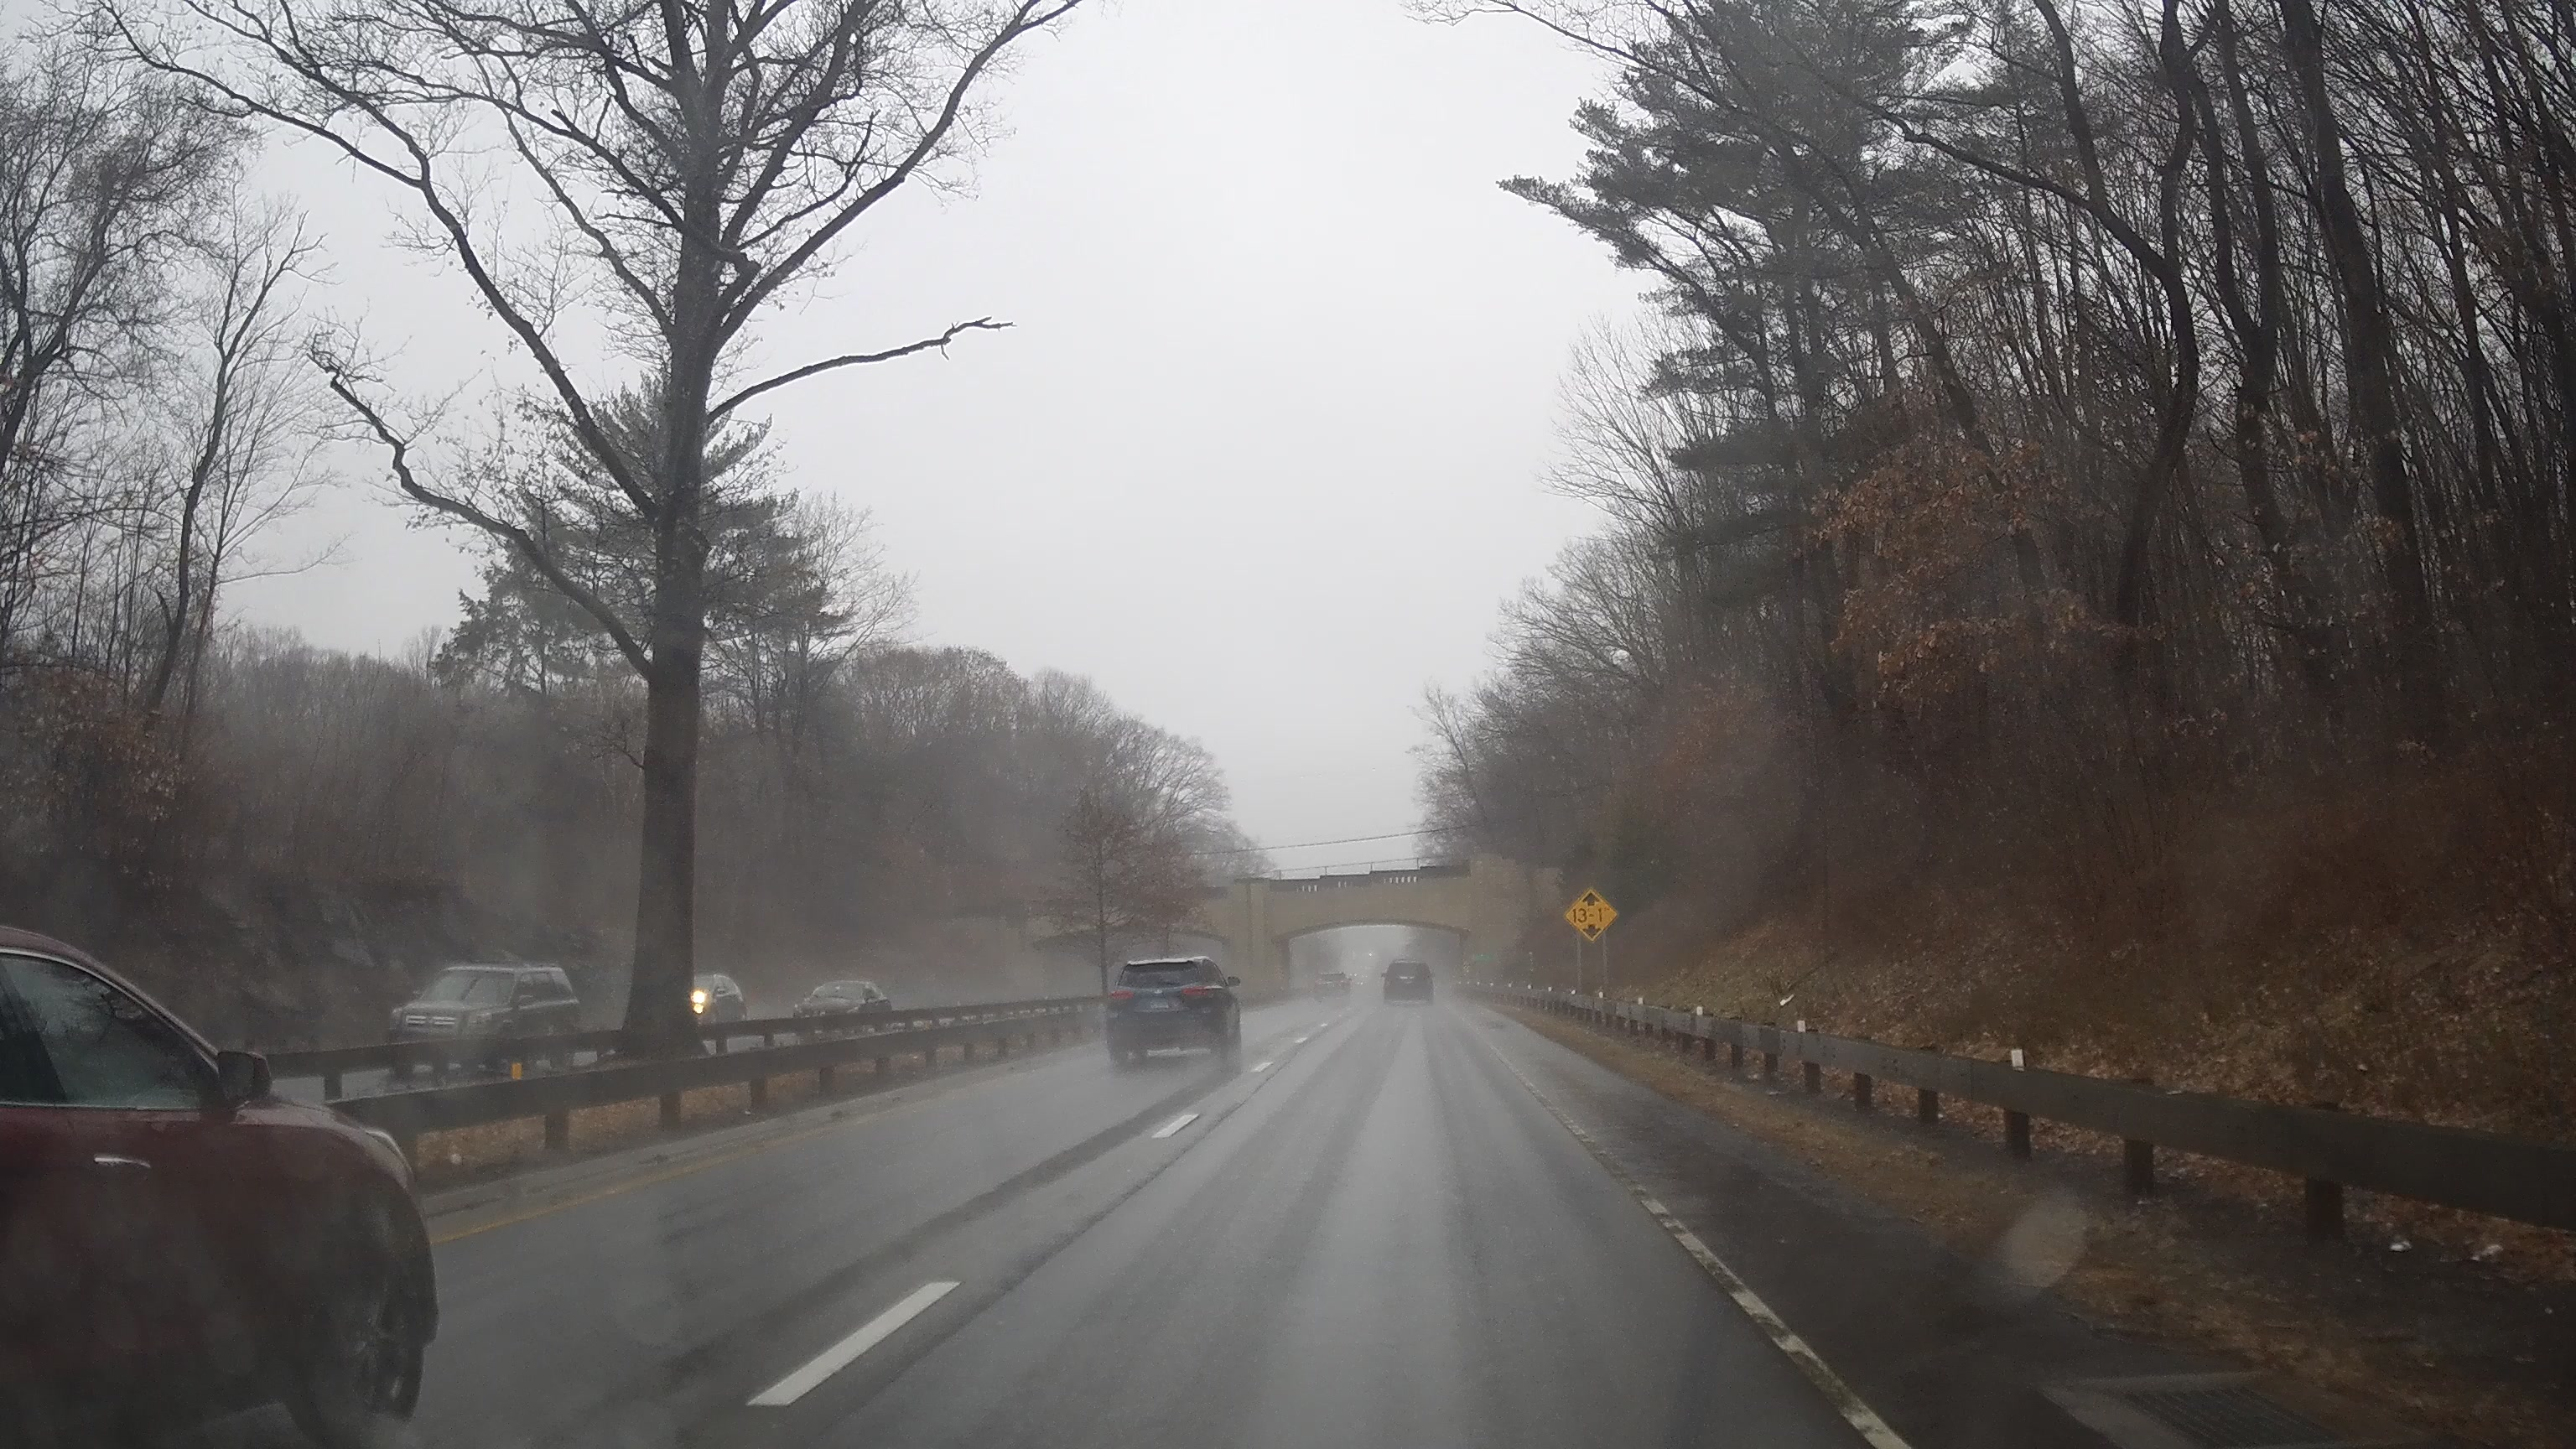low-clearance-sign: (1562, 886, 1619, 945)
